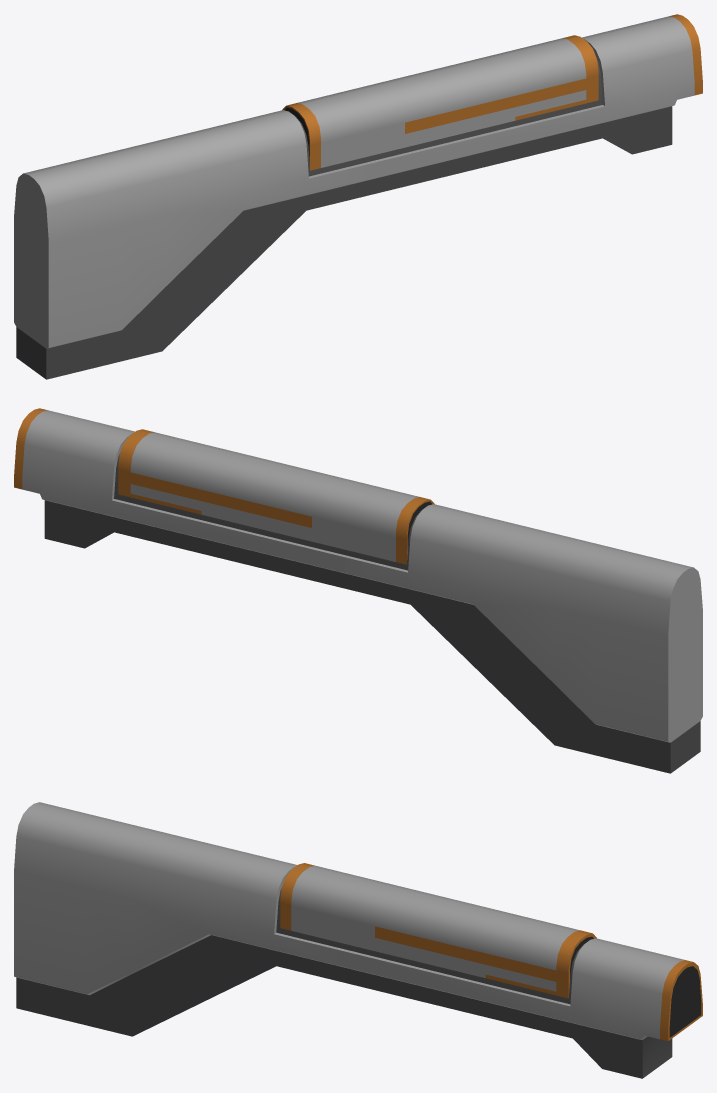
Rendered from Body_AR_6.glb.
3 views of the same model, one above another, from view 1: azimuth 30°, elevation 25°; view 2: azimuth 150°, elevation 25°; view 3: azimuth 330°, elevation 25° (orthographic).
Visible parts, largest first — view 1: Body_AR_6; view 2: Body_AR_6; view 3: Body_AR_6.
Boxes of the visible parts, box(x1,y1,x2,y2) form: Body_AR_6: box(14, 14, 702, 379); Body_AR_6: box(14, 408, 702, 773); Body_AR_6: box(14, 802, 702, 1078).
Size of the model in its own units: 1.49 by 0.4229 by 0.137.
